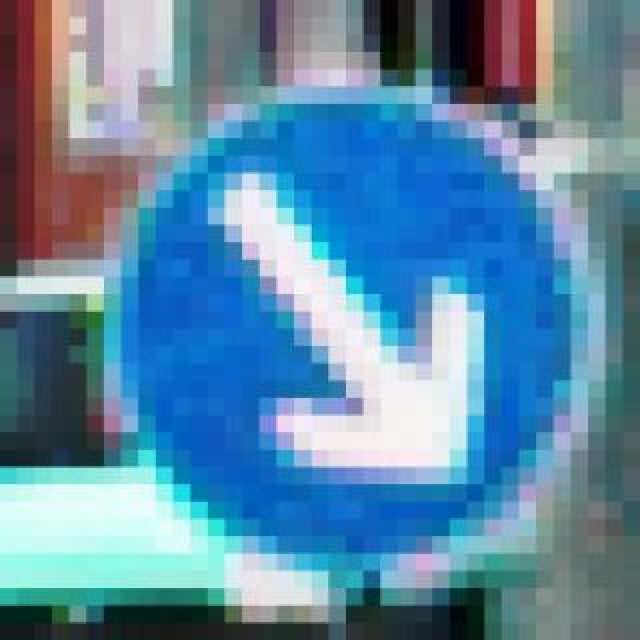keep right: (86, 70, 570, 572)
